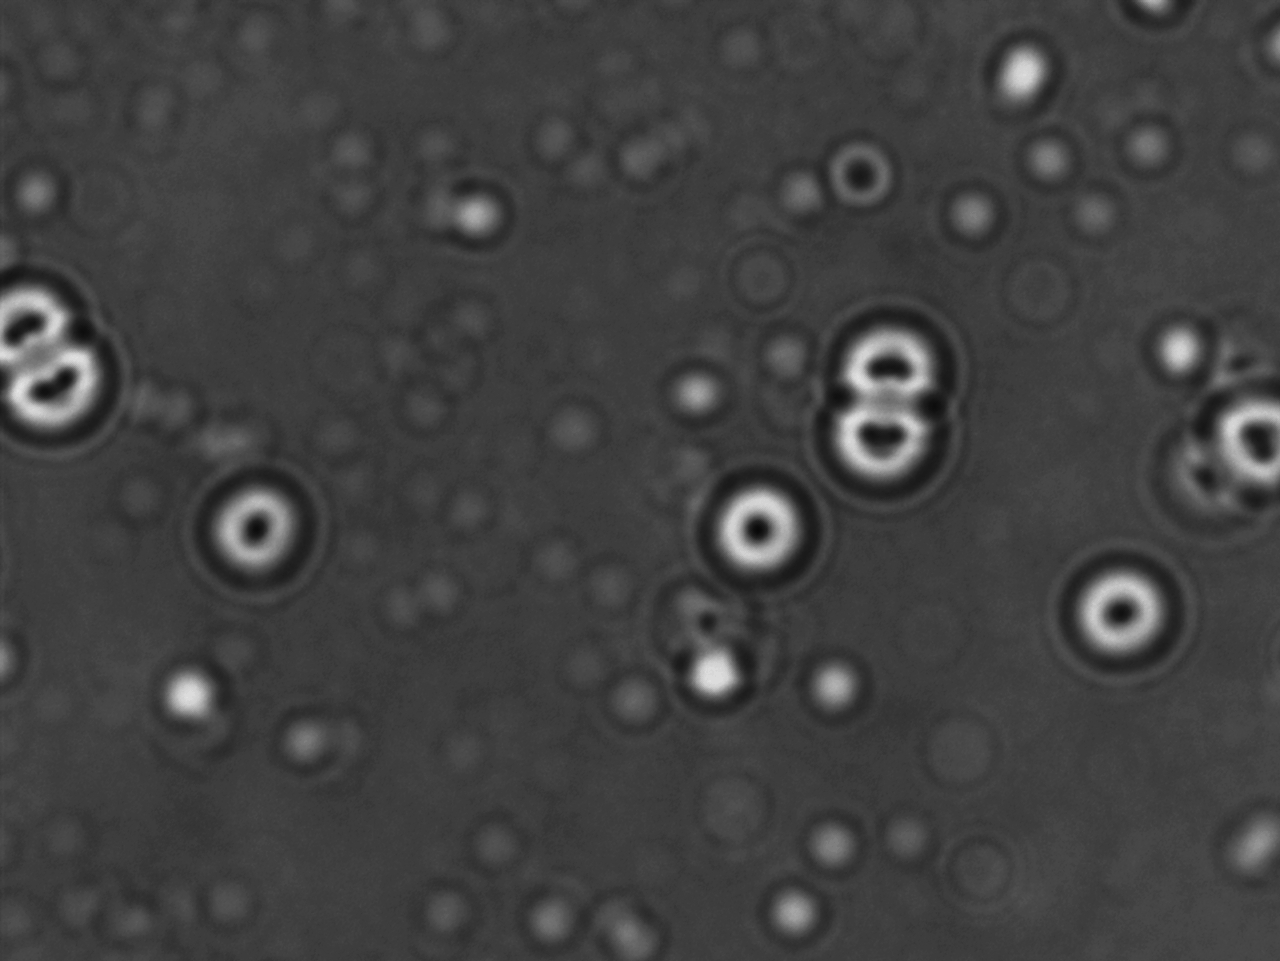depth:24: (175, 445, 326, 605), (1050, 538, 1201, 693), (689, 453, 828, 605), (805, 373, 955, 511), (820, 283, 969, 416)
